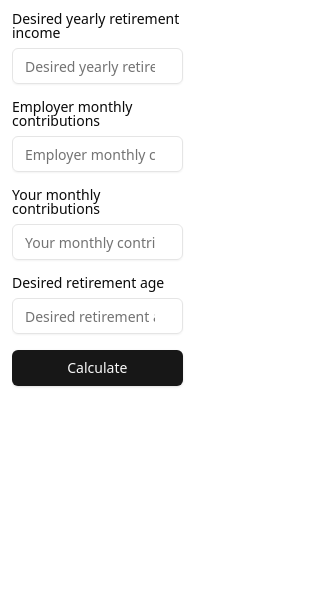
Test case: PensionForm › displays error message when form is submitted with invalid input
// Submit the form without filling it out
What coordinates should you click on to do the following:
click the button "Calculate"
I would click on:
 (97, 368)
Its box is [12,350,183,386].
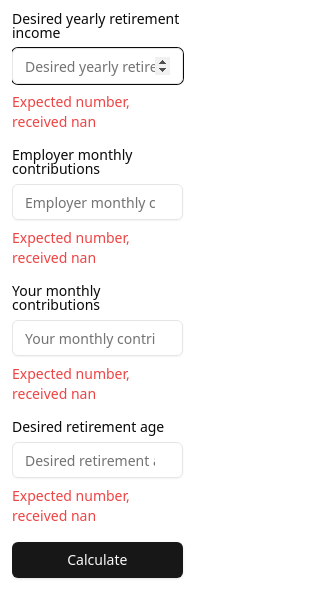
Expected: the text "Expected number, received nan" is shown 4 times, [12,92,130,131]; [12,228,130,267]; [12,364,130,403]; [12,486,130,525]
